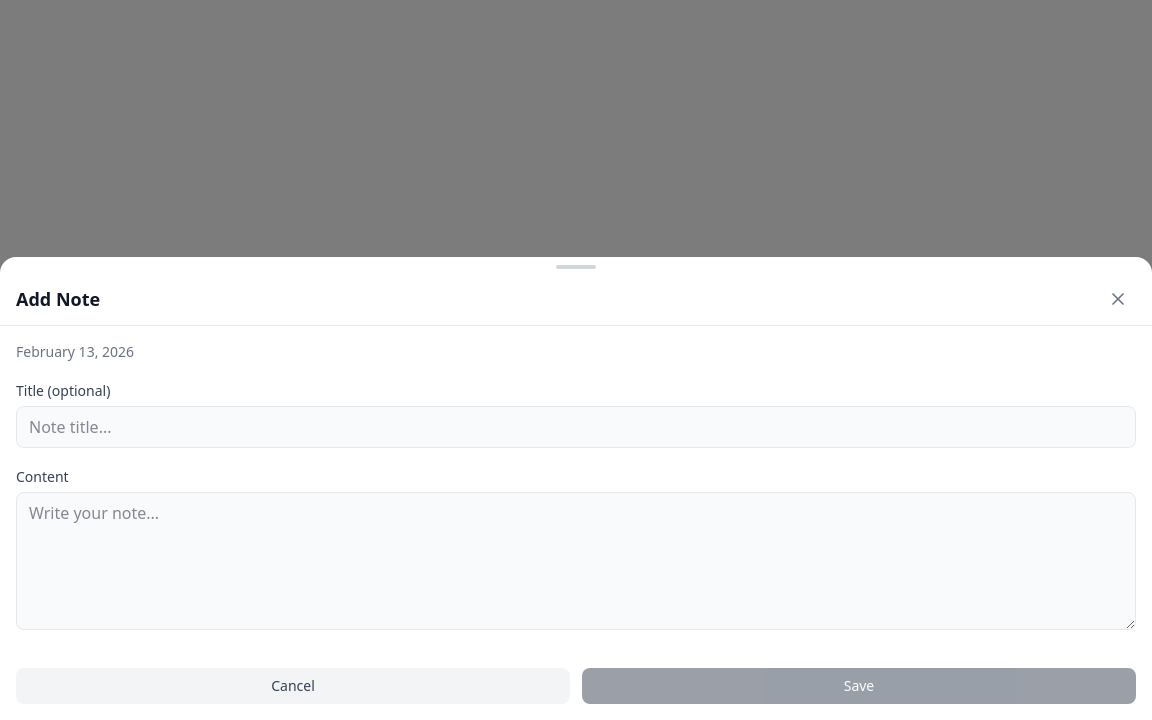
Test case: NoteLogForm › save button state › should enable Save button when note content is entered
Type "My test note" into the text box with placeholder "Write your note...". click: (576, 561)
box: [16, 492, 1136, 630]
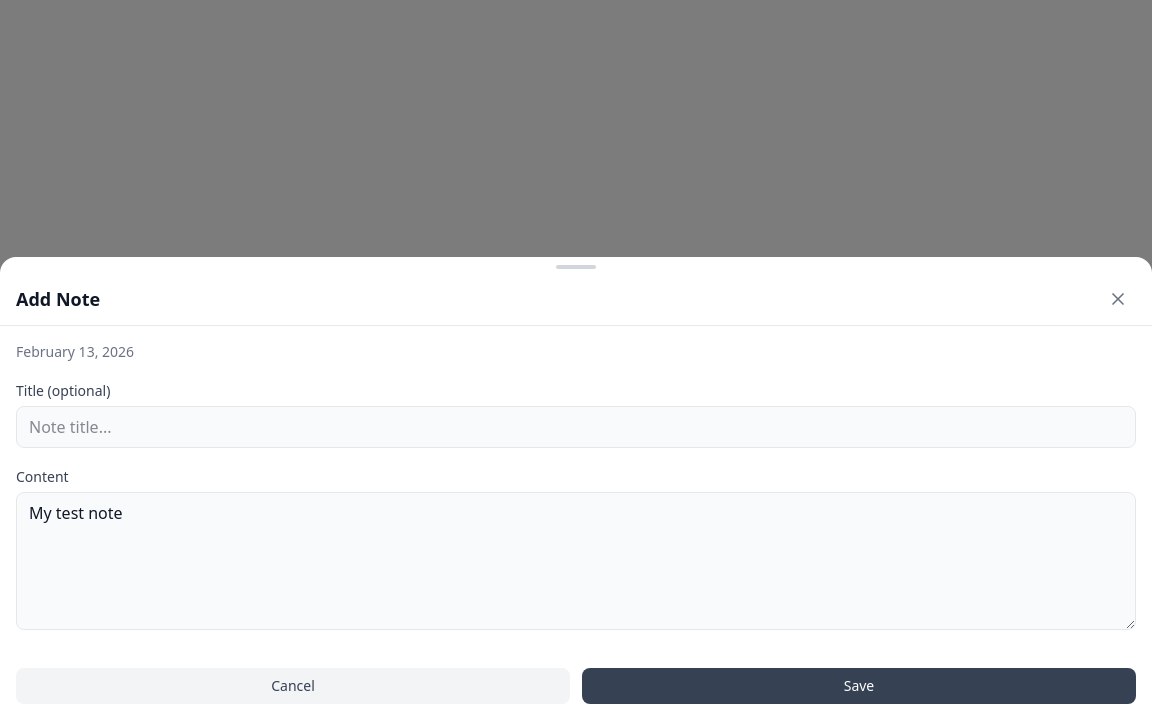
Result: the button "Save" is enabled at [582, 668, 1136, 704]
